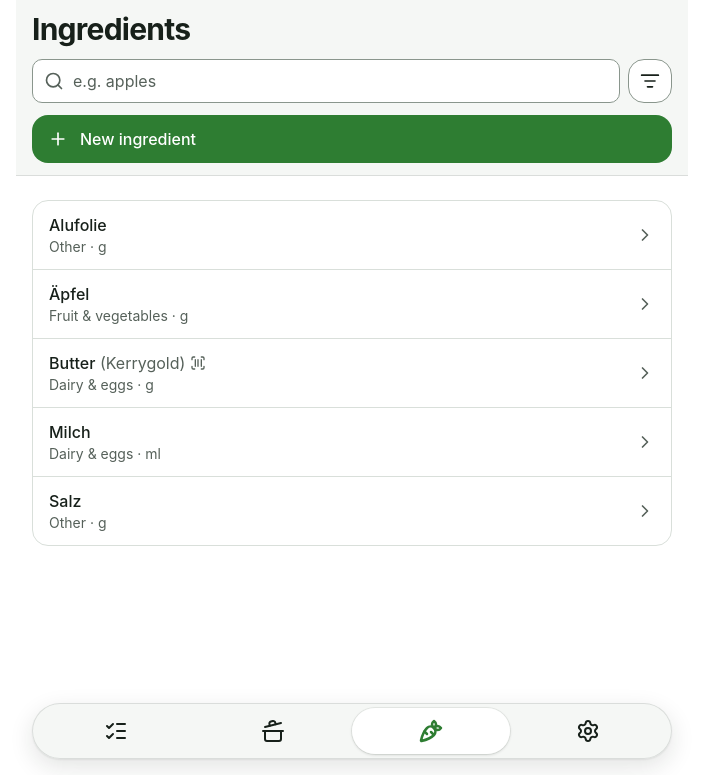
Test: IngredientsScreen › searches on the server once typing pauses
Expected: the list with test id "ingredient-list" is shown, [32,200,672,546]
Type "aepfel" into the search field named "Search ingredients". click: point(326, 81)
box: [32,59,620,103]
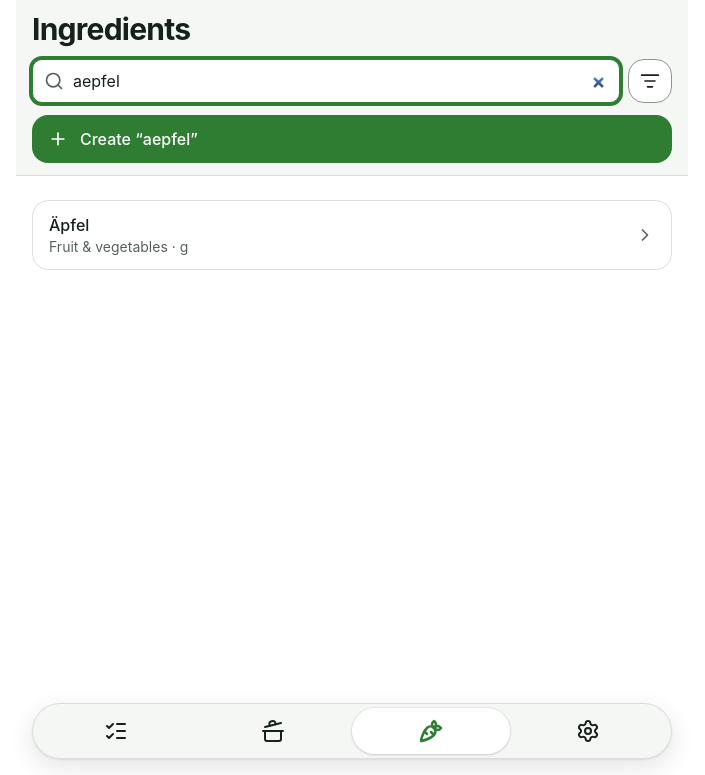
Expected: the link with test id "ingredient-row" reads "Äpfel Fruit & vegetables · g", [49,215,655,255]
Expected: the number of links with test id "ingredient-row" is 1, [49,215,655,255]
